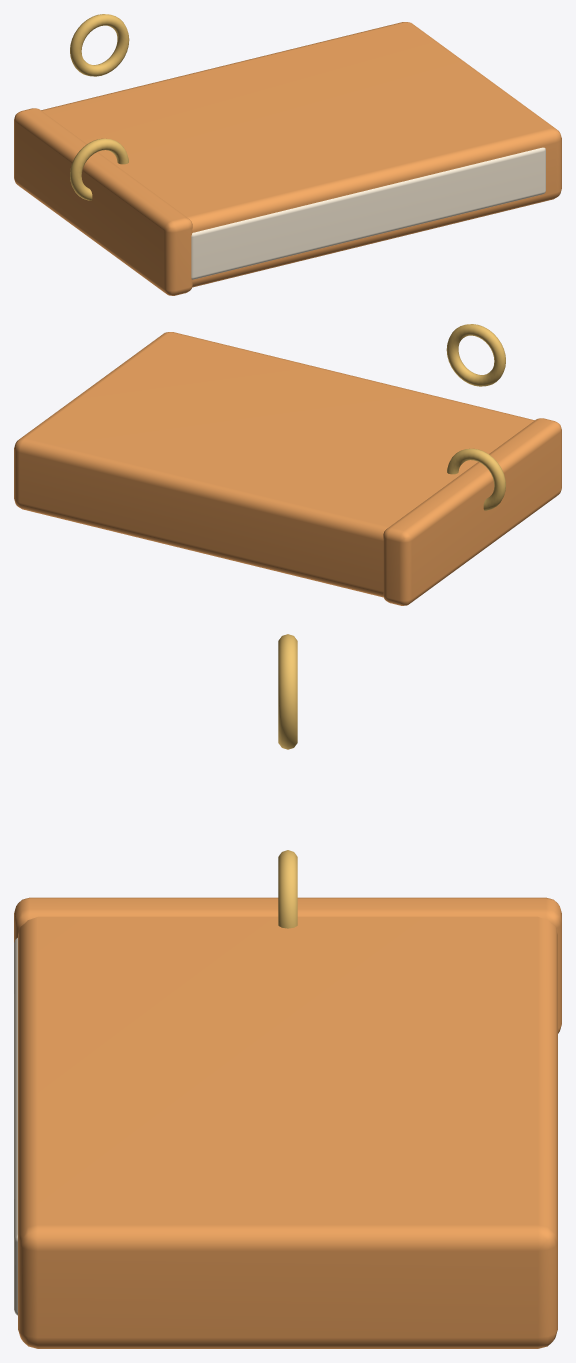
The model's file is booksRingBinderOrange.glb.
The picture shows the model from 3 angles, top to bottom: view 1: azimuth 30°, elevation 25°; view 2: azimuth 150°, elevation 25°; view 3: azimuth 270°, elevation 25°; orthographic projection. The views are drawn at different scales.
Visible parts, largest first — view 1: Book cover, Pages, Spine, Binder ring.001, Binder ring; view 2: Book cover, Spine, Binder ring.001, Binder ring; view 3: Book cover, Spine, Binder ring.001, Binder ring, Pages.
Boxes of the visible parts, bbox=[...] form: Book cover: bbox=[41, 22, 561, 287]; Pages: bbox=[191, 147, 545, 279]; Spine: bbox=[14, 108, 192, 295]; Binder ring.001: bbox=[70, 14, 129, 76]; Binder ring: bbox=[70, 138, 128, 200]; Book cover: bbox=[14, 332, 534, 597]; Spine: bbox=[383, 418, 561, 605]; Binder ring.001: bbox=[446, 324, 505, 386]; Binder ring: bbox=[447, 448, 505, 510]; Book cover: bbox=[18, 916, 557, 1348]; Spine: bbox=[14, 897, 561, 1033]; Binder ring.001: bbox=[278, 634, 297, 749]; Binder ring: bbox=[278, 850, 297, 928]; Pages: bbox=[14, 938, 17, 1315].
Size of the model in its own units: 1.05 by 0.543 by 0.69.
